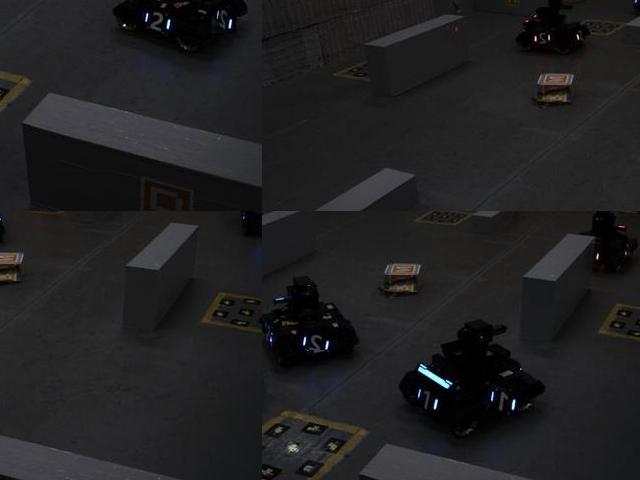armor: (141, 6, 176, 39), (414, 381, 441, 417), (487, 386, 518, 417), (300, 331, 334, 352), (213, 8, 238, 34), (532, 32, 555, 49)
